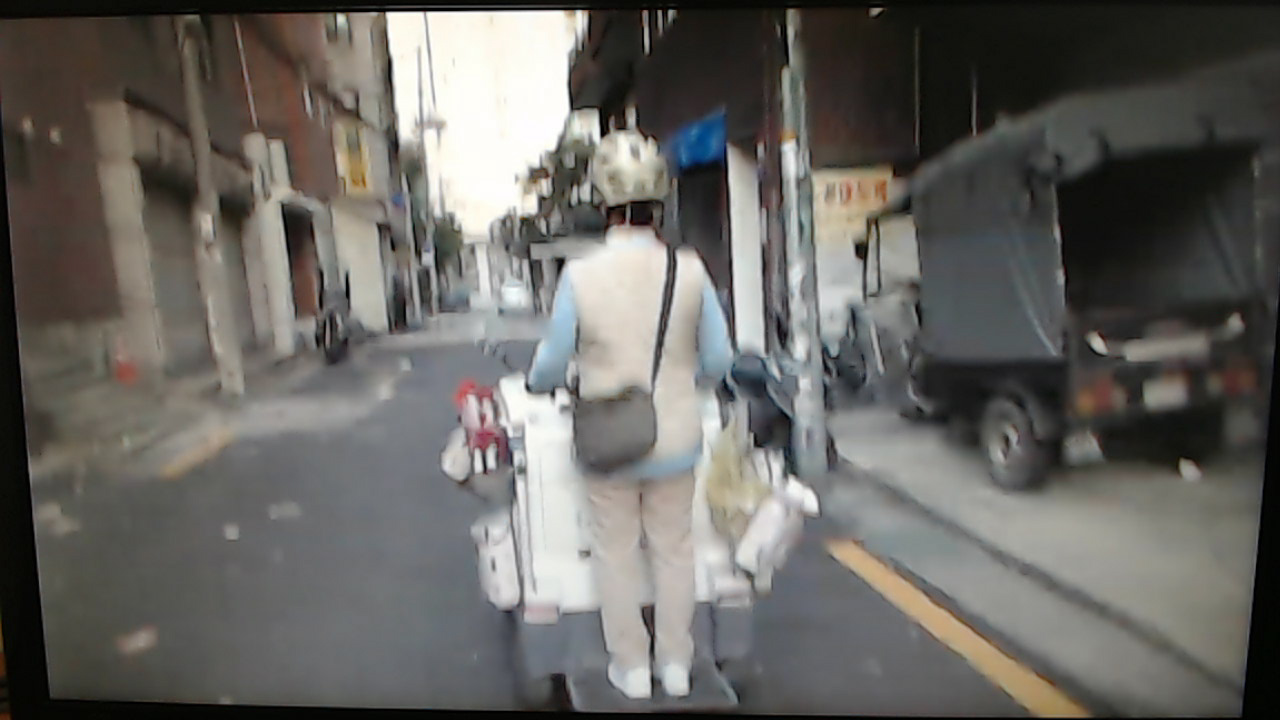Yakurut: (512, 127, 777, 704)
